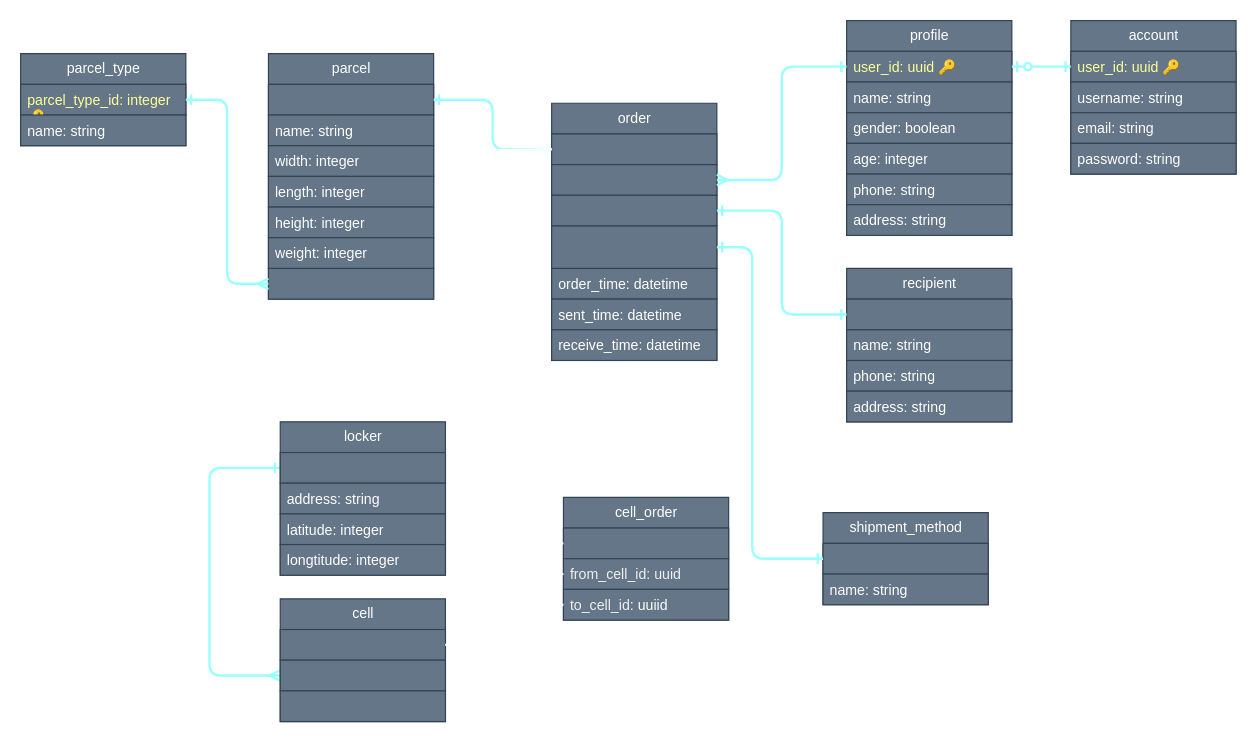
Image size: 1257x746. Some labels were removed from this diagram. The shapes that lost their labels are listed below. From the top down, each one's centre as x and y in pixels, then its label:
At point (350, 99): "order_id : integer 🔑".
At point (633, 149): "order_id: integer 🔑".
At point (633, 179): "sender_id: integer".
At point (633, 210): "recipient _id: integer".
At point (633, 246): "shipment_method_id: integer".
At point (350, 283): "type: integer".
At point (928, 314): "receivepient_id: uuid 🔑".
At point (362, 467): "locker_id: integer 🔑".
At point (645, 543): "order_id: uuid".
At point (905, 558): "method_id: integer 🔑".
At point (362, 644): "cell: uuid".
At point (362, 675): "locker_id: integer".
At point (362, 706): "occupied: boolean".
